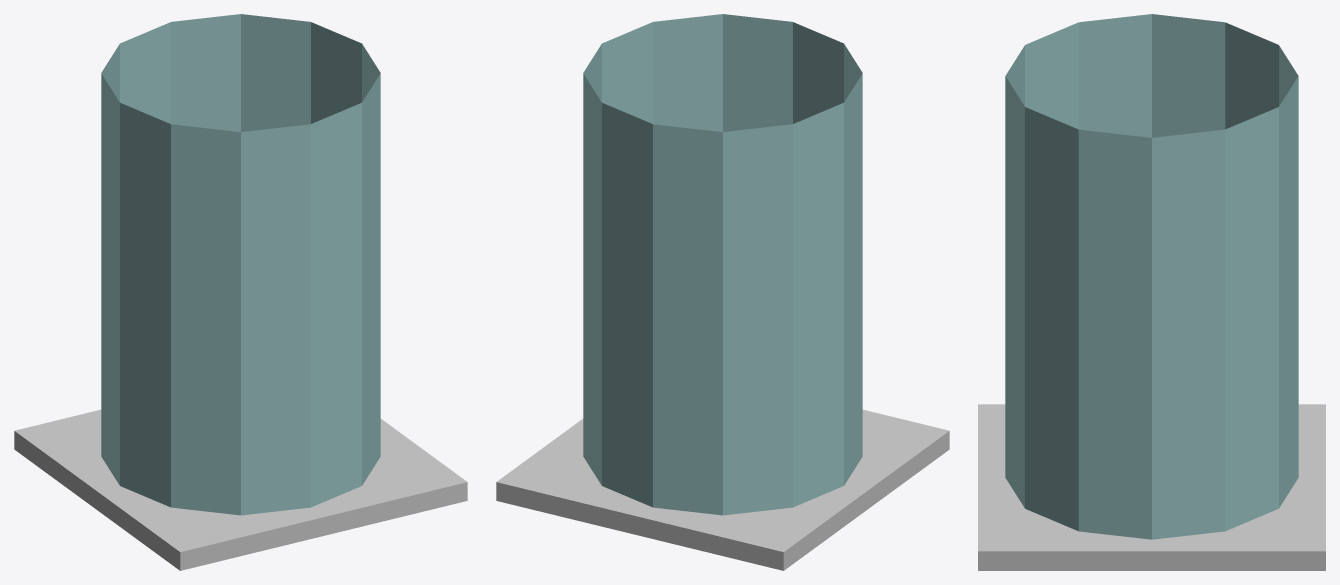
Rendered from columna_cupula.fbx.
The picture shows the model from 3 angles, left to right: view 1: azimuth 30°, elevation 25°; view 2: azimuth 150°, elevation 25°; view 3: azimuth 270°, elevation 25°; orthographic projection. The views are drawn at different scales.
Visible parts, largest first — view 1: columna_cupula; view 2: columna_cupula; view 3: columna_cupula.
Part boxes in pixels (left/top/right/bottom): columna_cupula: left=14, top=14, right=467, bottom=570; columna_cupula: left=496, top=14, right=949, bottom=570; columna_cupula: left=978, top=14, right=1325, bottom=570.
Bounding box in the file's own units: 2000 × 2674 × 2000.
